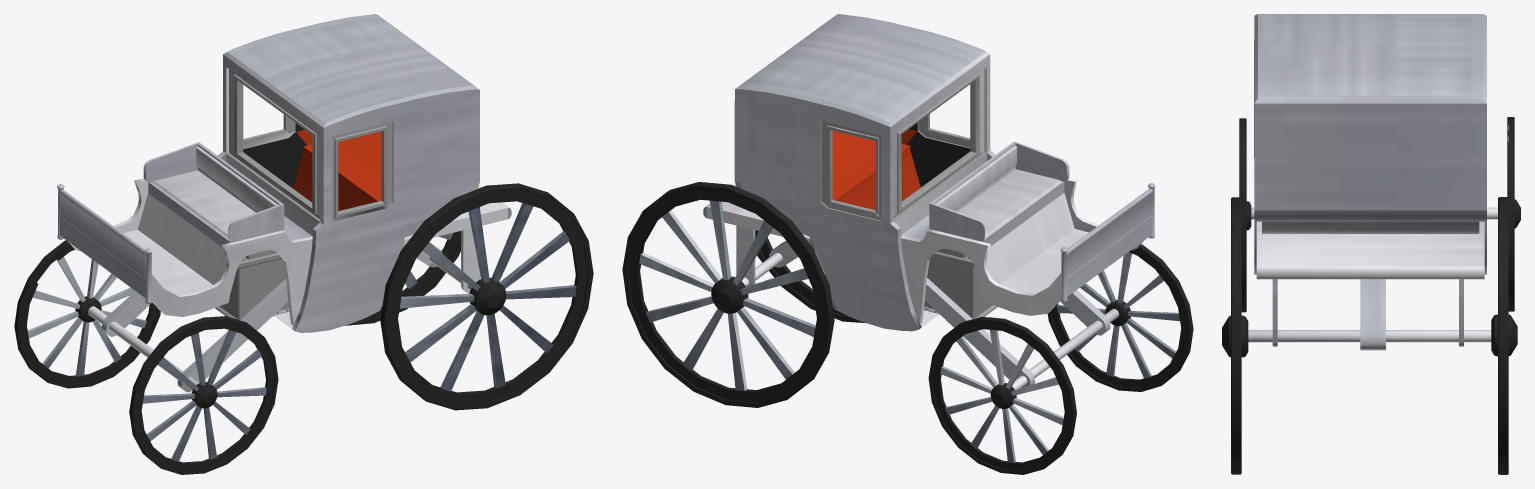
The model's file is electric-car.obj.
The picture shows the model from 3 angles, left to right: view 1: azimuth 30°, elevation 25°; view 2: azimuth 150°, elevation 25°; view 3: azimuth 270°, elevation 25°; orthographic projection. The views are drawn at different scales.
Parts seen in each view (by area): view 1: LowPoly, Mesh; view 2: LowPoly, Mesh; view 3: LowPoly.
Boxes of the visible parts, left/top/right/bottom form: LowPoly: left=14, top=14, right=593, bottom=474; Mesh: left=215, top=250, right=289, bottom=319; LowPoly: left=622, top=14, right=1193, bottom=474; Mesh: left=924, top=249, right=997, bottom=318; LowPoly: left=1222, top=14, right=1520, bottom=474.
Bounding box in the file's own units: 19.54 × 13.03 × 9.54.
